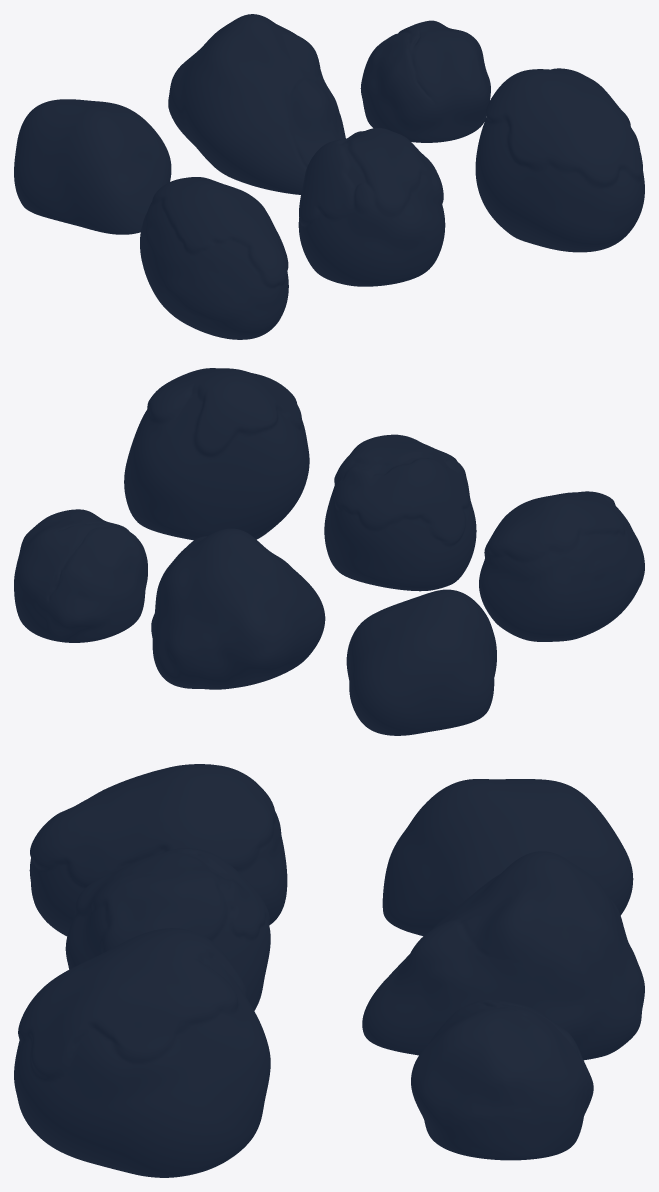
The model's file is Anime_stones.glb.
The picture shows the model from 3 angles, top to bottom: view 1: azimuth 30°, elevation 25°; view 2: azimuth 150°, elevation 25°; view 3: azimuth 270°, elevation 25°; orthographic projection. The views are drawn at different scales.
Visible parts, largest first — view 1: Quad_Sphere, Quad_Sphere.004, Quad_Sphere.001, Quad_Sphere.002, Quad_Sphere.003, Quad_Sphere.005; view 2: Quad_Sphere, Quad_Sphere.004, Quad_Sphere.002, Quad_Sphere.001, Quad_Sphere.003, Quad_Sphere.005; view 3: Quad_Sphere, Quad_Sphere.004, Quad_Sphere.002, Quad_Sphere.005, Quad_Sphere.003, Quad_Sphere.001.
Boxes of the visible parts, bbox=[...] form: Quad_Sphere: bbox=[475, 68, 644, 252]; Quad_Sphere.004: bbox=[168, 14, 345, 194]; Quad_Sphere.001: bbox=[298, 128, 445, 286]; Quad_Sphere.002: bbox=[140, 177, 288, 339]; Quad_Sphere.003: bbox=[14, 99, 171, 234]; Quad_Sphere.005: bbox=[360, 20, 490, 142]; Quad_Sphere: bbox=[124, 368, 309, 540]; Quad_Sphere.004: bbox=[151, 528, 325, 689]; Quad_Sphere.002: bbox=[479, 491, 644, 641]; Quad_Sphere.001: bbox=[324, 434, 476, 591]; Quad_Sphere.003: bbox=[346, 589, 496, 735]; Quad_Sphere.005: bbox=[14, 509, 147, 642]; Quad_Sphere: bbox=[14, 928, 270, 1177]; Quad_Sphere.004: bbox=[362, 851, 644, 1060]; Quad_Sphere.002: bbox=[29, 764, 287, 936]; Quad_Sphere.005: bbox=[411, 999, 593, 1160]; Quad_Sphere.003: bbox=[382, 779, 633, 936]; Quad_Sphere.001: bbox=[65, 848, 270, 1010].
Size of the model in its own units: 3.72 by 1.21 by 3.25.
